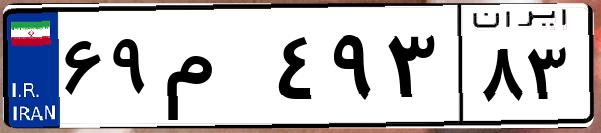3: (385, 28, 445, 110), (525, 38, 570, 115)
4: (270, 28, 330, 110)
6: (57, 26, 110, 100)
8: (475, 38, 525, 113)
9: (330, 28, 385, 110), (110, 28, 158, 98)
م: (158, 20, 270, 120)
